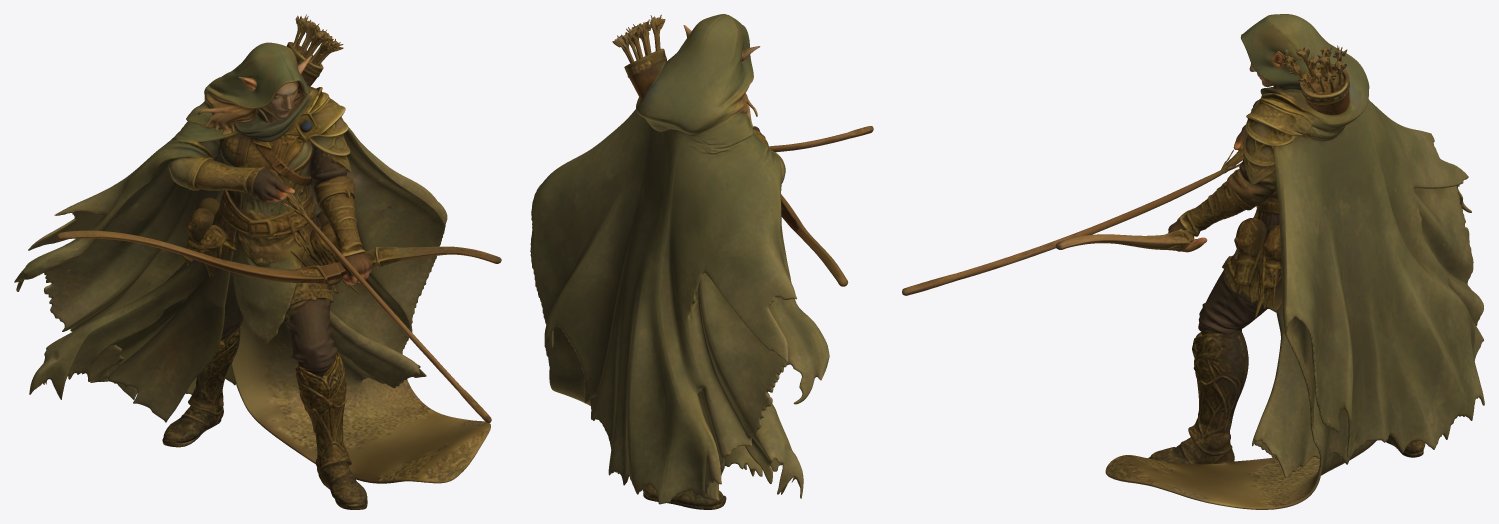
Rendered from elf_ranger_full_male_01.glb.
3 views of the same model, side by side, from view 1: azimuth 30°, elevation 25°; view 2: azimuth 150°, elevation 25°; view 3: azimuth 270°, elevation 25° (orthographic). The views are drawn at different scales.
Parts seen in each view (by area): view 1: material; view 2: material; view 3: material.
Part boxes in pixels (<box>): material: <box>14,14,501,509</box>; material: <box>530,14,873,509</box>; material: <box>902,14,1484,509</box>.
Bounding box in the file's own units: 0.6947 × 0.792 × 0.9476.
Materials: 1 (1 with a texture image).
